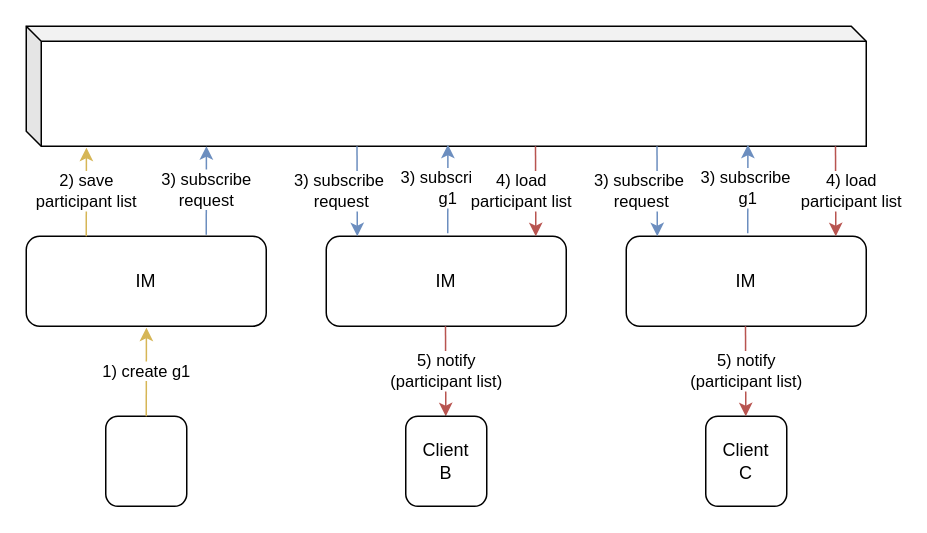
Image size: 927x533. Some labels were removed from this diagram. The shapes that lost their labels are listed below. From the top down, each one's centre as x and y in pixels, then its label:
the point at 445,85: REDIS
the point at 145,460: Client A
